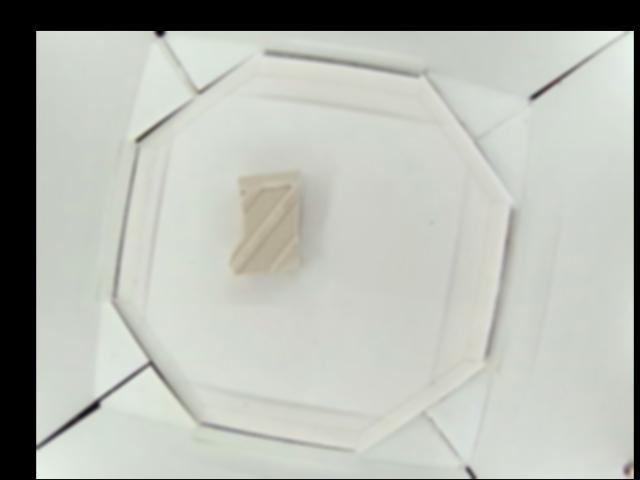China: (225, 170, 304, 276)
